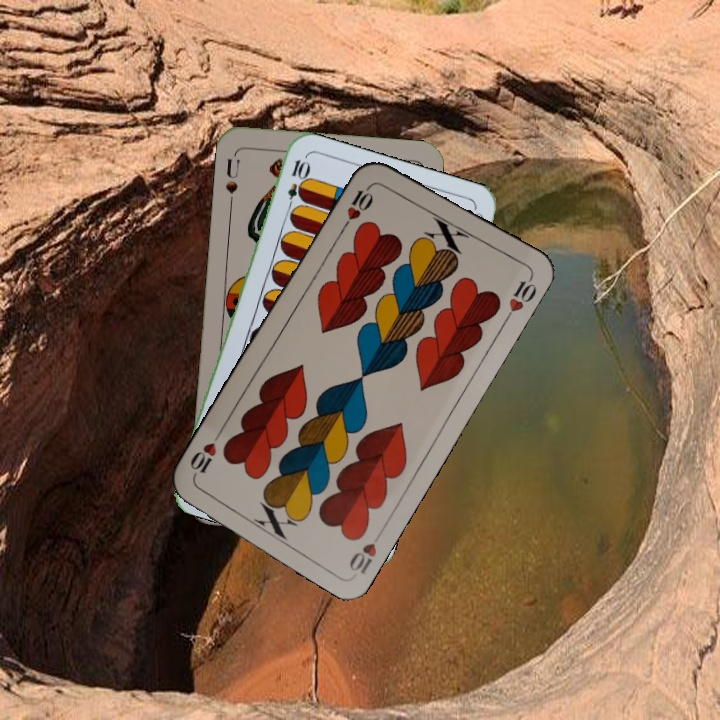E10: (283, 155, 310, 214)
H10: (345, 524, 386, 577), (338, 179, 376, 232)
SU: (221, 154, 242, 210)
